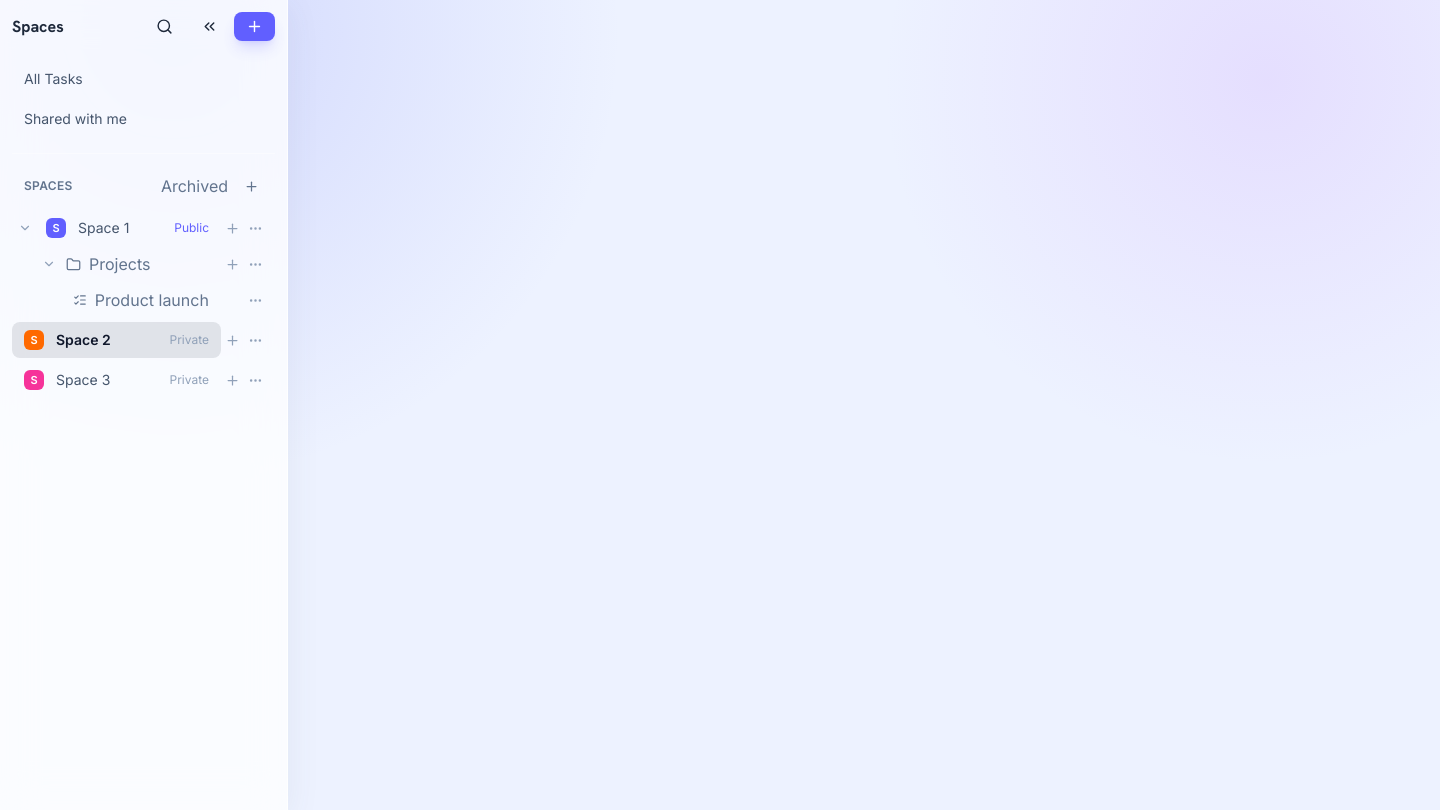
Test: ContextSidebar › keeps folder options focused on actions that work locally
What coordinates should you click on to do the following:
click the button named "More options for Projects"
I would click on:
 (256, 264)
Its box is [244,252,267,276].
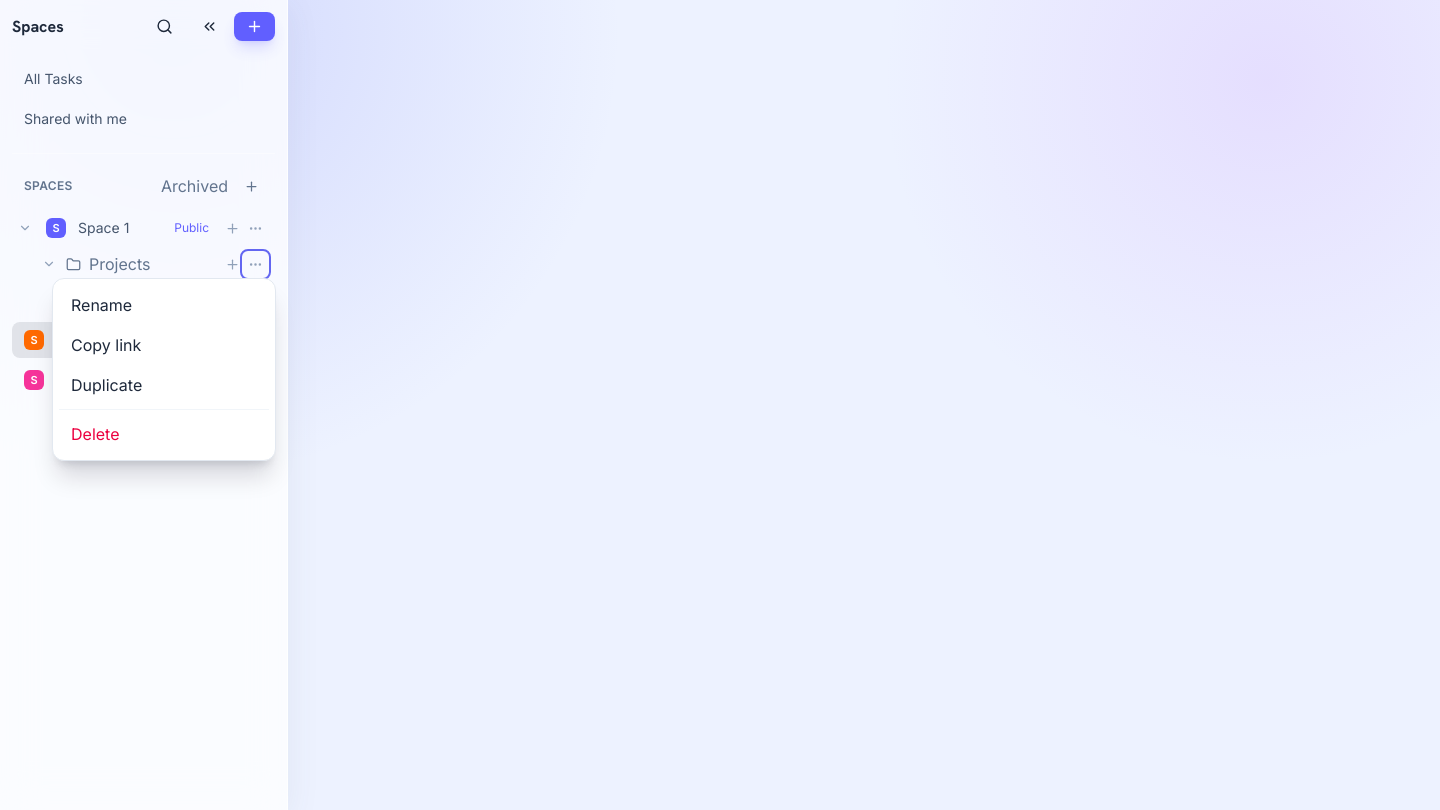
Check: the menu shows "Rename", box [59,285,269,325]
Check: the menu shows "Copy link", box [59,325,269,365]
Check: the menu shows "Duplicate", box [59,365,269,405]
